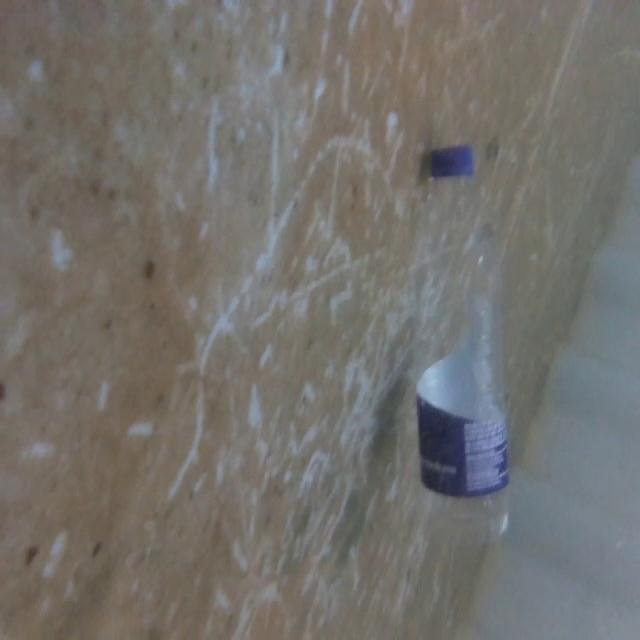plastic bottle: (396, 135, 523, 546)
